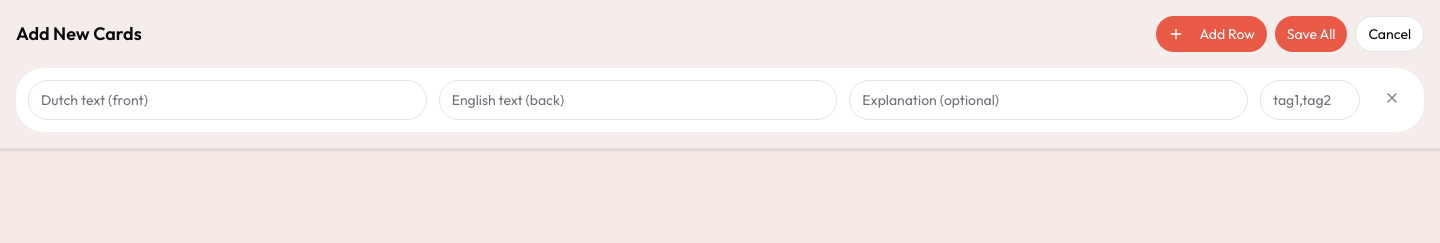
it: BulkCardCreator › should remove row when X button is clicked
// Add a second row
Click the button "Add Row". click: x=1211, y=34
box: [1156, 16, 1267, 52]
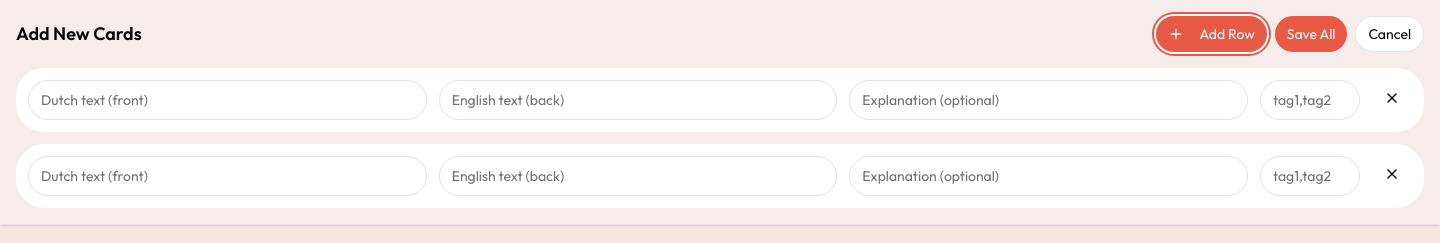
Now the number of fields with placeholder "Dutch text (front)" is 2, box [28, 80, 427, 120]; [28, 156, 427, 196]
Click the 4th button. click: x=1392, y=98
box: [1372, 80, 1412, 116]
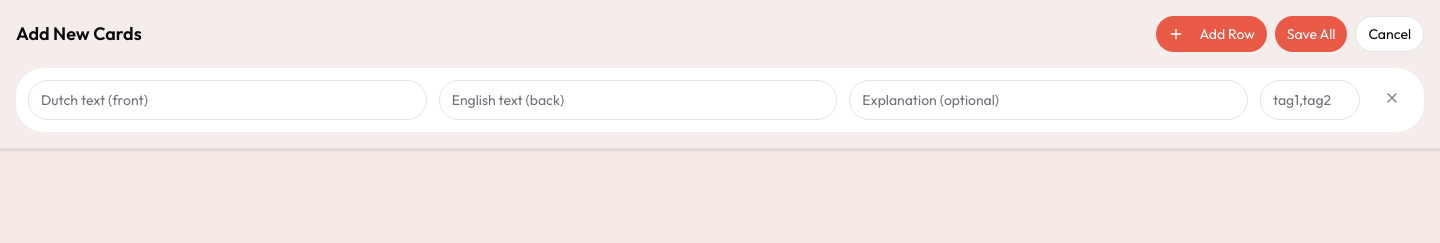
Now the number of fields with placeholder "Dutch text (front)" is 1, box [28, 80, 427, 120]
